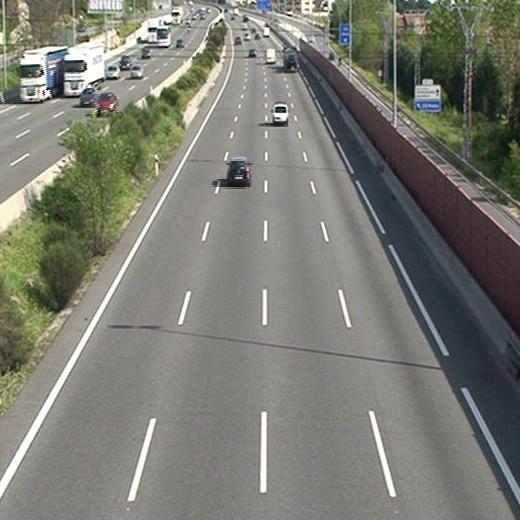car: (226, 158, 250, 185)
truck: (283, 48, 297, 72)
van: (272, 103, 288, 123), (265, 49, 276, 63)
